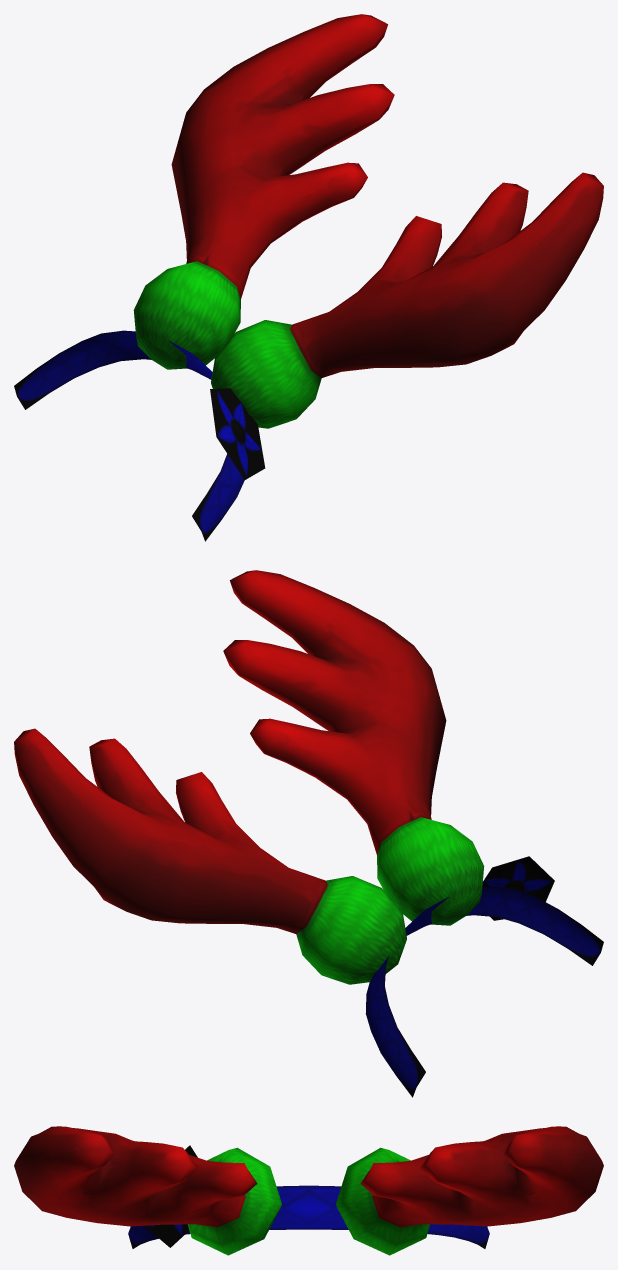
3 views of the same model, one above another, from view 1: azimuth 30°, elevation 25°; view 2: azimuth 150°, elevation 25°; view 3: azimuth 270°, elevation 25° (orthographic). The views are drawn at different scales.
Parts seen in each view (by area): view 1: K1258; view 2: K1258; view 3: K1258.
Boxes of the visible parts, <box> form: K1258: <box>14,14,603,541</box>; K1258: <box>14,570,603,1097</box>; K1258: <box>14,1126,603,1255</box>.
Bounding box in the file's own units: 0.7508 × 0.5402 × 1.01.
